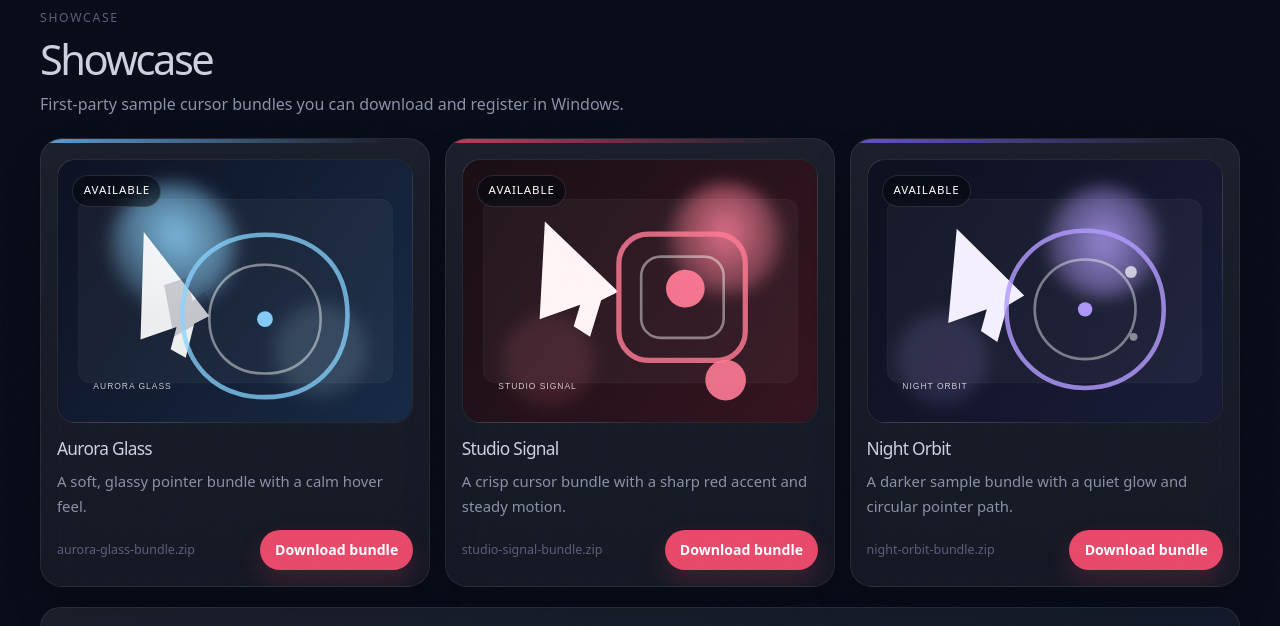
Test: ShowcaseSurface › shows three sample bundles and opens the install guide modal
expect the heading "Showcase" is shown: met, box [40,30,212,86]
expect the text "First-party sample cursor bundles you can download and register in Windows." is shown: met, box [40,94,624,116]
Click the link "Download bundle" next to "aurora-glass-bundle.zip". click: point(337, 550)
box: [260,530,413,570]
(page scrolled)
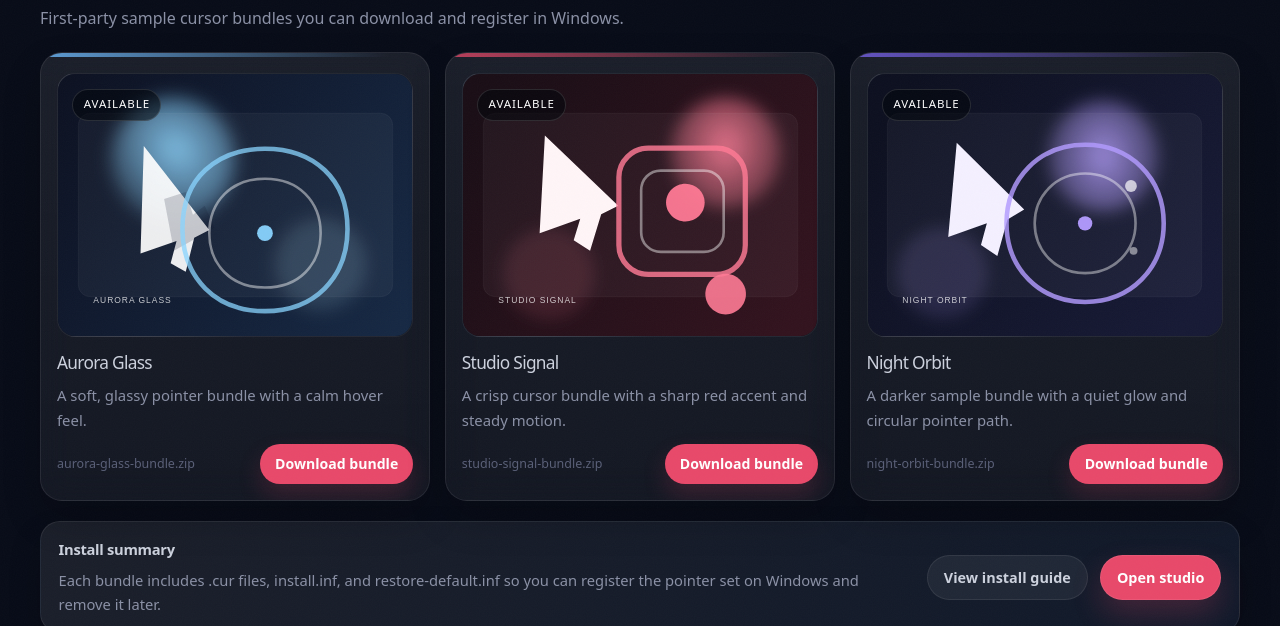
Click the button "View install guide". click: point(1007, 577)
box: [927,555,1088,600]
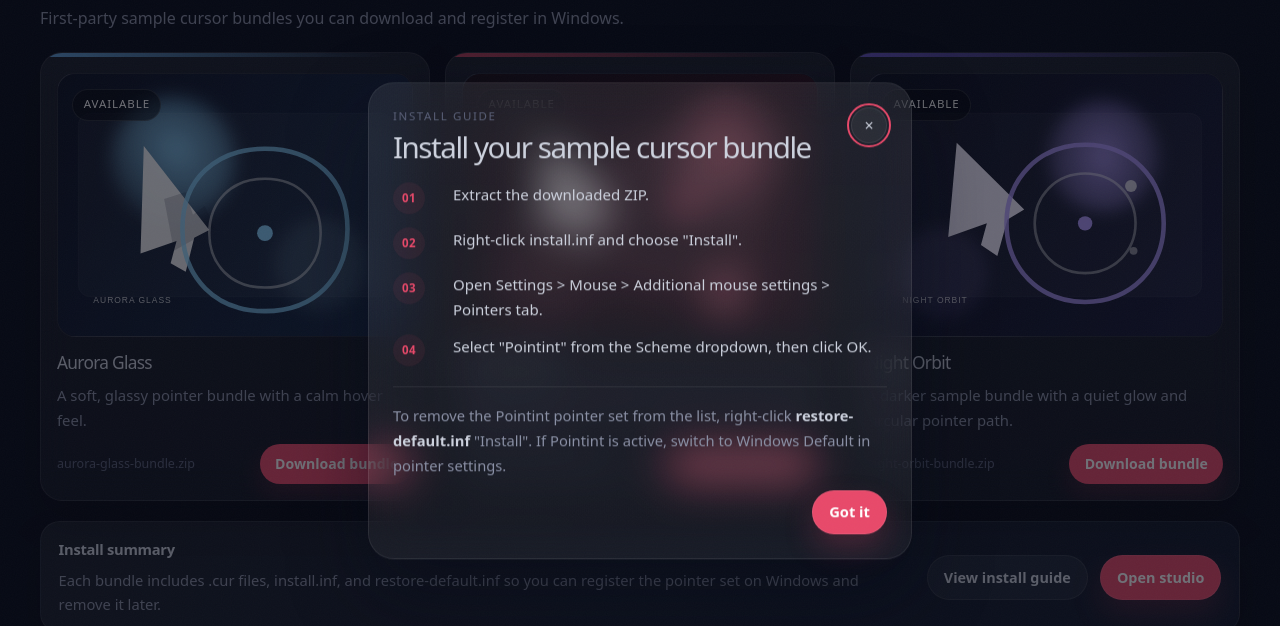
expect the dialog is shown: met
expect the text "Install guide" is shown: met, box [393,108,496,123]
expect the heading "Install your sample cursor bundle" is shown: met, box [393,132,845,163]
Press Escape in the dialog, box [368,82,912,560]
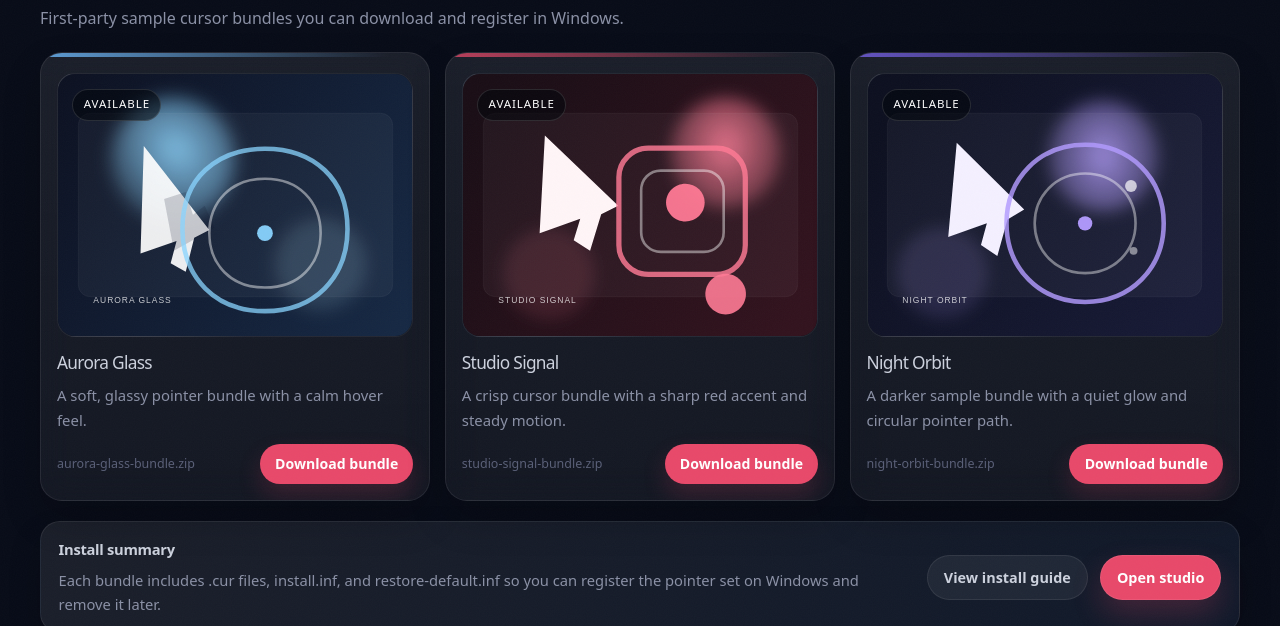
expect the dialog is gone: met
